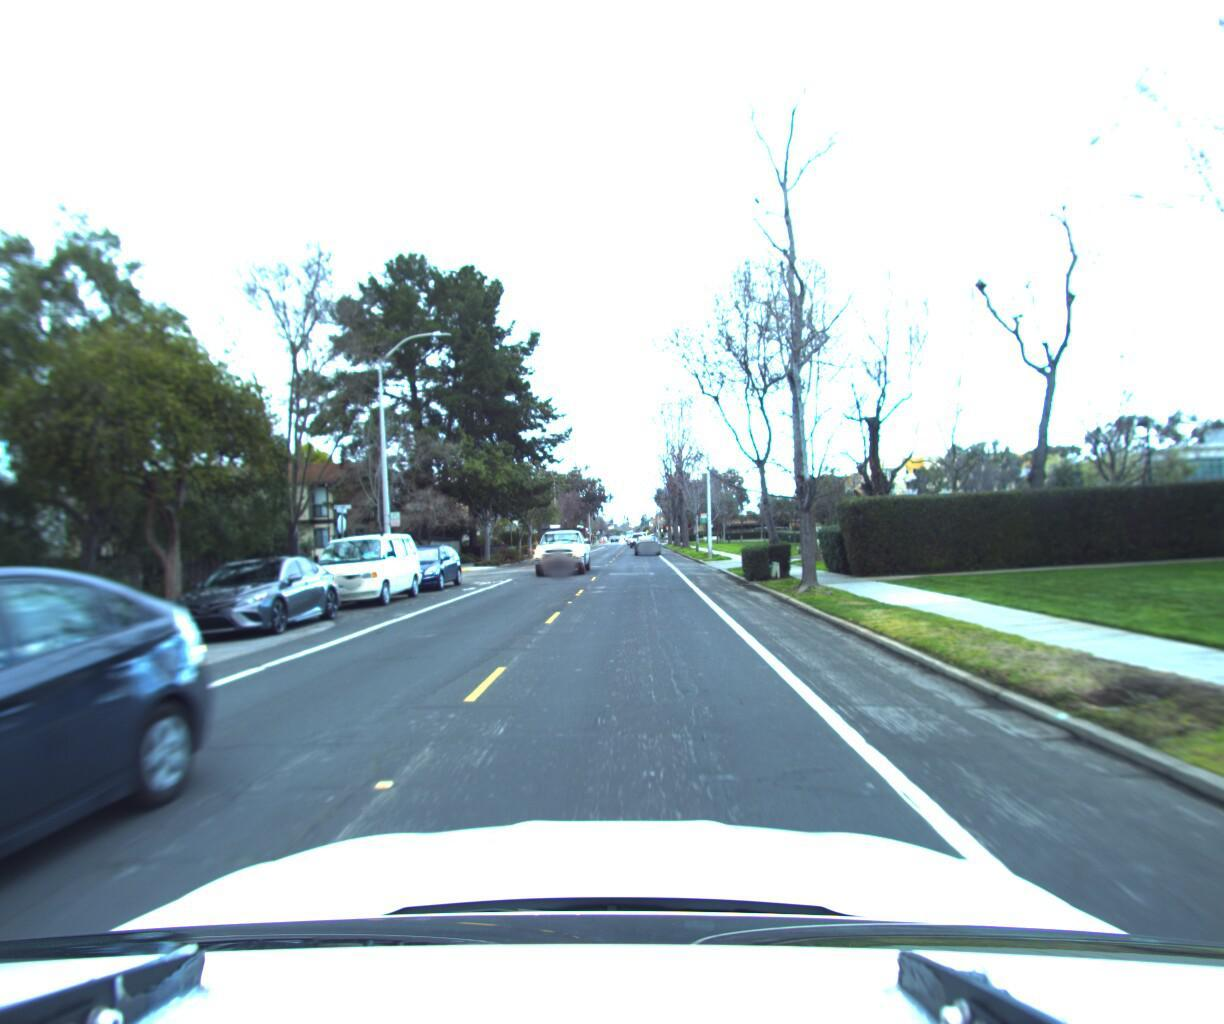car: (152, 551, 352, 649), (296, 530, 427, 614), (378, 543, 466, 595), (530, 516, 592, 576), (631, 530, 658, 554)
